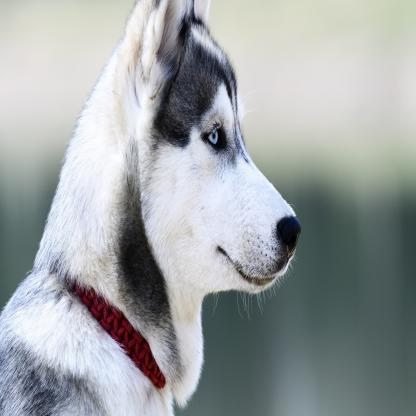husky: (1, 7, 299, 416)
